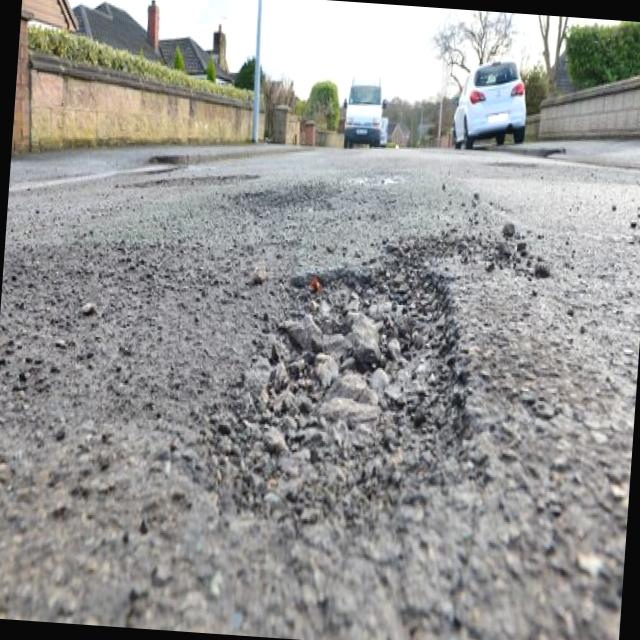bad-road: (186, 215, 522, 543), (114, 160, 260, 202)
